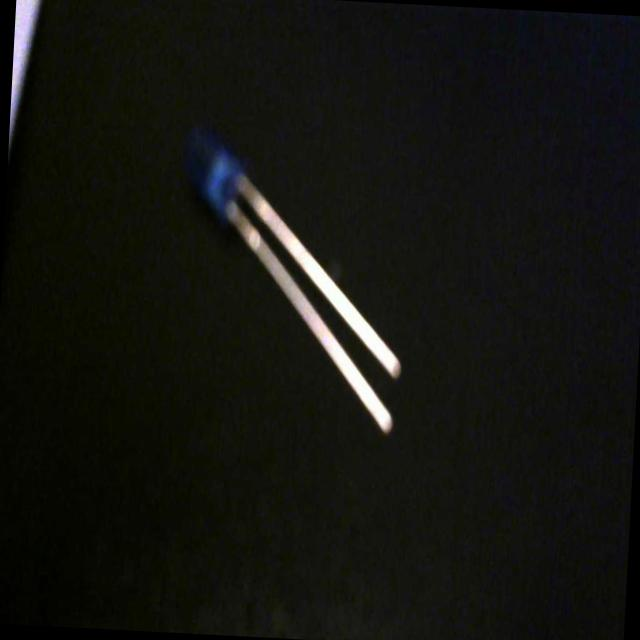blue_led: (170, 120, 414, 437)
